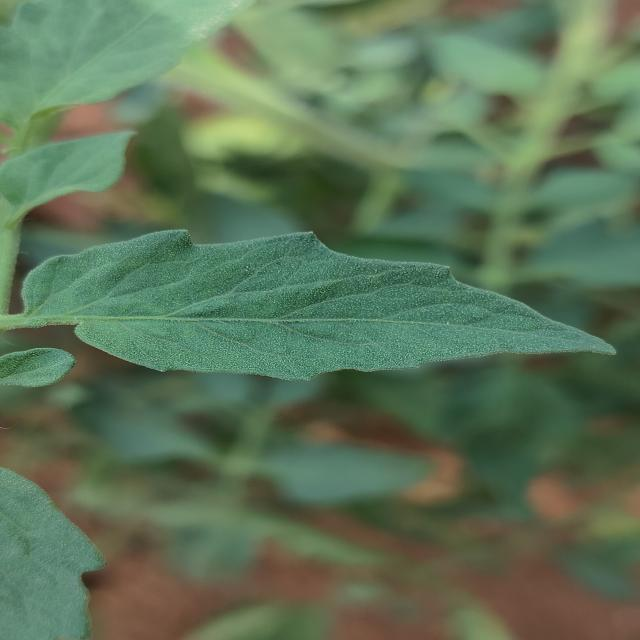tomato_healthy: (1, 230, 615, 380), (0, 0, 248, 130), (0, 131, 132, 214)
